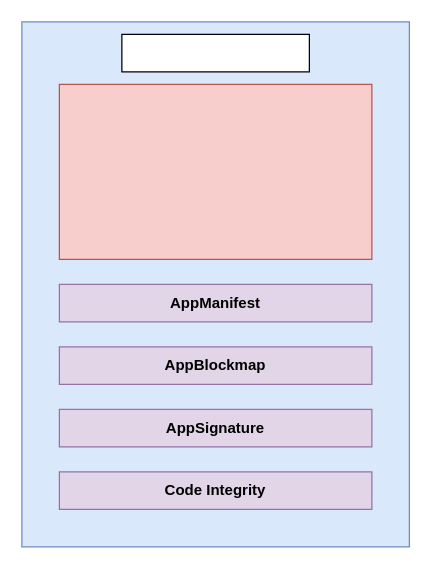
Image size: 431x569. Some labels were removed from this diagram. Each missing label, with the centre of its shape:
Application Files: the point at 215,171
MSIX PACKAGE: the point at 215,52
